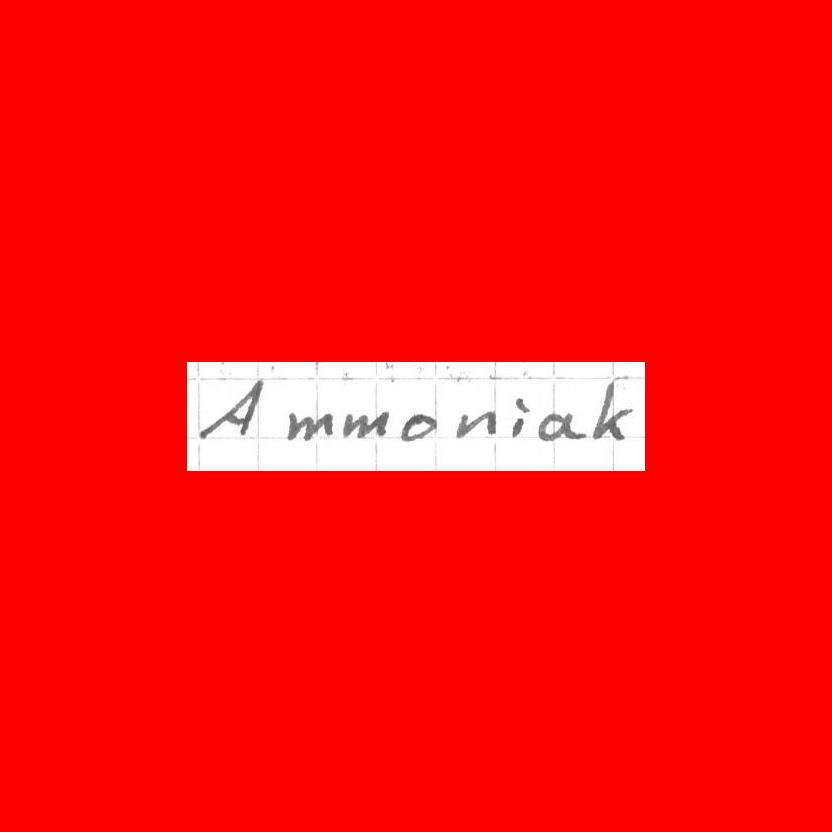Char: (195, 371, 266, 443), (589, 382, 635, 443), (340, 406, 398, 441), (283, 407, 336, 443), (535, 408, 588, 442), (508, 393, 536, 442), (453, 406, 495, 438), (398, 410, 438, 442)
